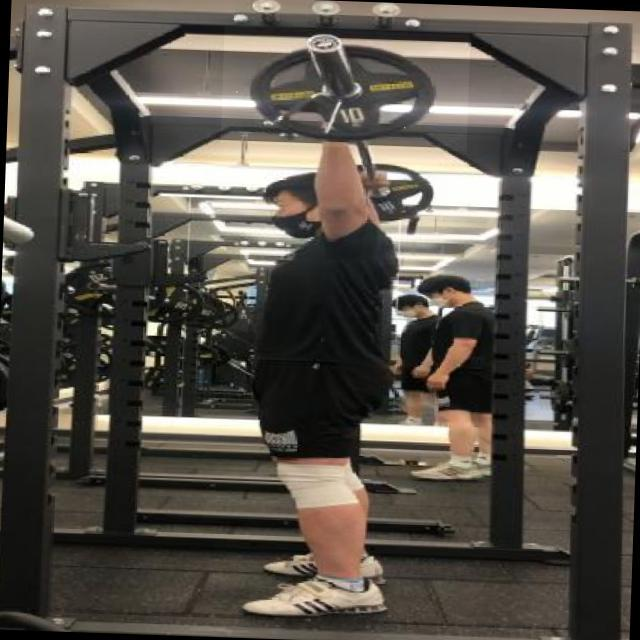barbell: (222, 27, 472, 153)
